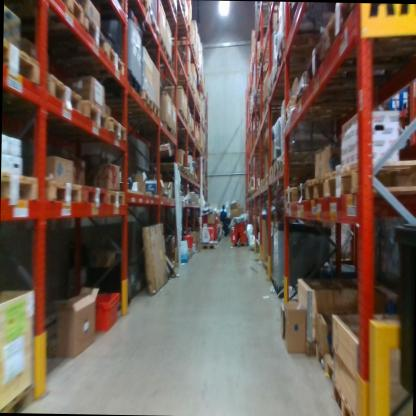pallet: (227, 42, 275, 251), (303, 38, 398, 91), (324, 6, 416, 56), (280, 95, 393, 133), (326, 155, 416, 201), (3, 35, 51, 94), (42, 64, 87, 112), (3, 162, 40, 216), (292, 75, 338, 116), (79, 88, 113, 143), (24, 0, 85, 29), (275, 33, 318, 74), (267, 62, 309, 99), (43, 173, 82, 212), (326, 372, 357, 416), (82, 14, 110, 57), (277, 150, 321, 177), (310, 338, 333, 388), (105, 73, 142, 100), (116, 89, 154, 114), (80, 179, 109, 210), (107, 112, 130, 148), (305, 174, 327, 206), (278, 181, 299, 212), (103, 182, 127, 209), (106, 46, 126, 76), (146, 15, 160, 44), (102, 1, 129, 16), (295, 178, 308, 209), (150, 164, 181, 174), (157, 119, 170, 135), (151, 101, 161, 120), (158, 32, 166, 54), (198, 241, 217, 250), (169, 127, 178, 143), (271, 159, 277, 179), (268, 161, 273, 185), (165, 53, 173, 67)
small_load_carrier: (83, 291, 125, 336), (179, 233, 195, 248), (232, 220, 247, 233), (238, 230, 251, 242), (227, 229, 238, 241)
